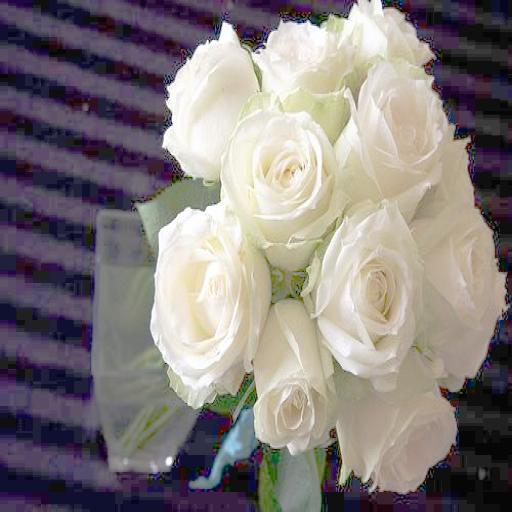rose: (150, 206, 265, 406), (419, 138, 512, 384), (222, 92, 339, 275), (311, 206, 424, 380), (161, 23, 261, 186), (349, 58, 449, 190), (254, 291, 334, 455)
